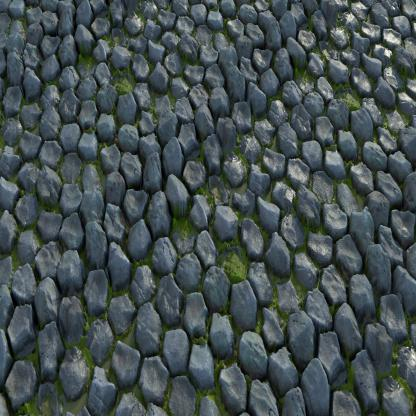Igneous_Basalt: (228, 259, 259, 335), (335, 294, 367, 358), (214, 358, 253, 409), (305, 349, 333, 413), (176, 243, 208, 298), (183, 337, 216, 389), (160, 319, 193, 370), (334, 226, 364, 282), (110, 326, 142, 378), (233, 333, 271, 375), (260, 230, 292, 276), (37, 150, 62, 208), (347, 152, 380, 195), (252, 185, 283, 229), (82, 266, 112, 310), (303, 220, 333, 264), (367, 238, 394, 285), (289, 306, 315, 352), (221, 50, 245, 99), (215, 195, 241, 240), (110, 285, 136, 326), (278, 107, 298, 159), (63, 244, 84, 292), (145, 148, 164, 201), (76, 92, 99, 135), (40, 275, 58, 327), (371, 67, 396, 104), (166, 171, 188, 213), (82, 180, 104, 221), (39, 49, 62, 87), (112, 123, 141, 153), (299, 130, 321, 169), (130, 216, 148, 262), (325, 136, 342, 181), (114, 86, 136, 118), (106, 44, 132, 70), (196, 101, 214, 135)
